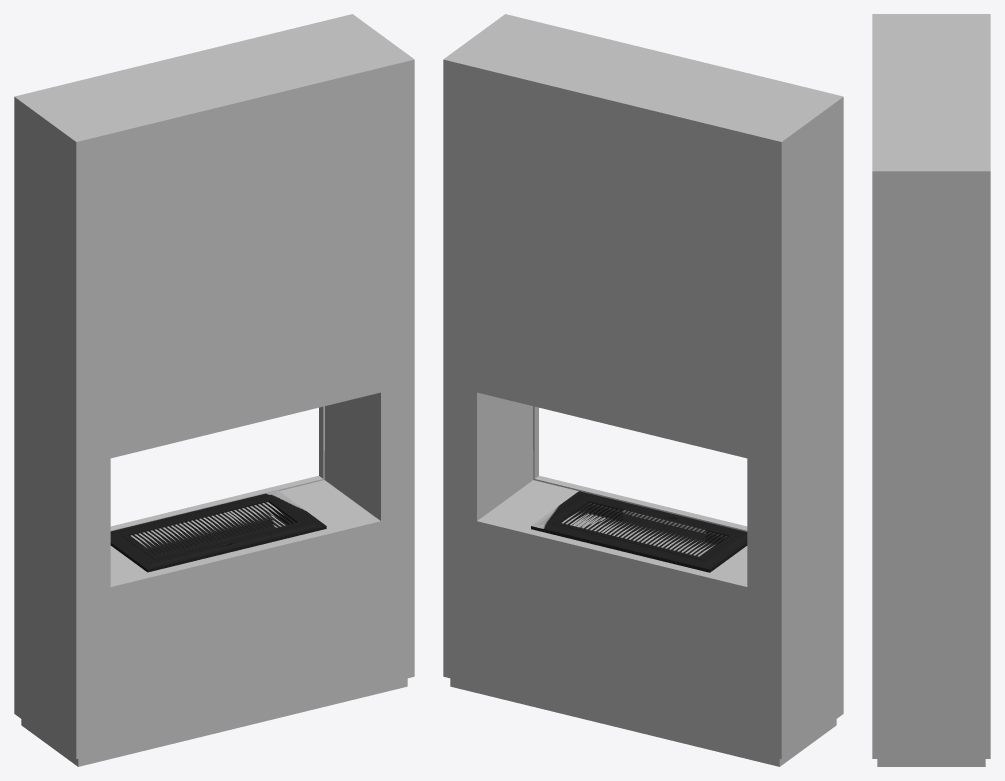
Rendered from Xaralyn Ambiance.fbx.
3 views of the same model, side by side, from view 1: azimuth 30°, elevation 25°; view 2: azimuth 150°, elevation 25°; view 3: azimuth 270°, elevation 25° (orthographic). The views are drawn at different scales.
Visible parts, largest first — view 1: Cube.028; view 2: Cube.028; view 3: Cube.028.
Boxes of the visible parts, x1,y1,x2,y2 form: Cube.028: (14,14,414,766); Cube.028: (443,14,843,766); Cube.028: (872,14,990,766).
Bounding box in the file's own units: 220 × 390 × 70.
